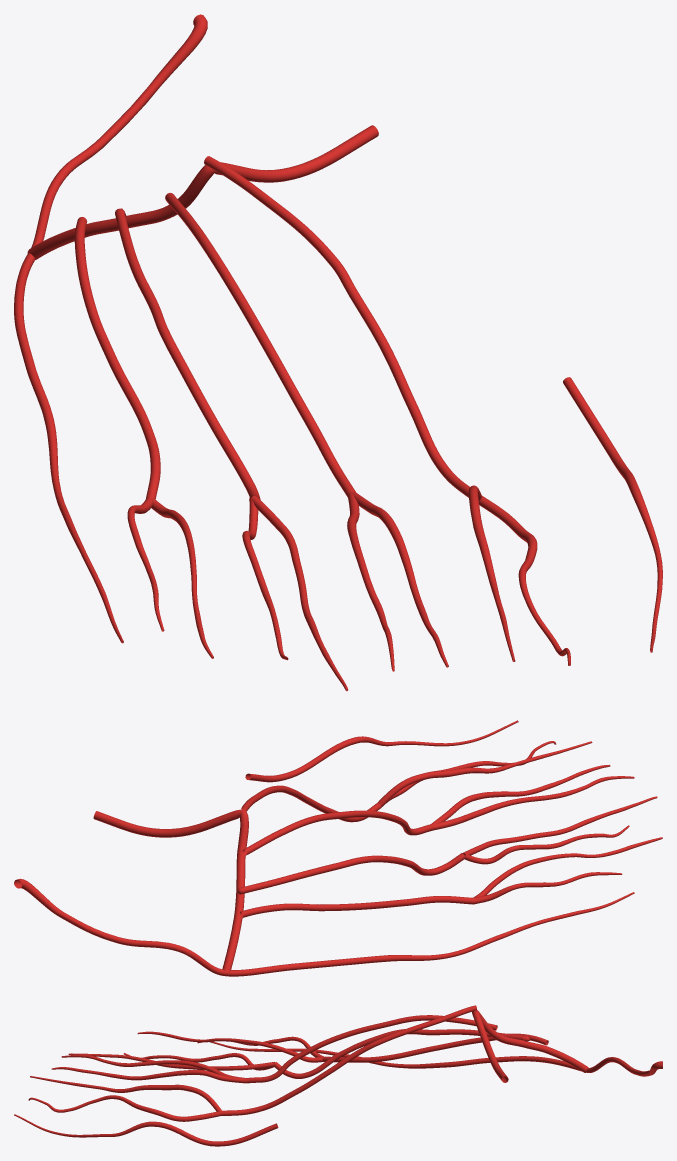
File: circulatorio-lateral-plantar-veins-r.glb
3 renders of one model, top to bottom at view 1: azimuth 30°, elevation 25°; view 2: azimuth 150°, elevation 25°; view 3: azimuth 270°, elevation 25°, orthographic. The views are drawn at different scales.
Parts seen in each view (by area): view 1: Plantar digital veins.r, Plantar metatarsal veins.r, Plantar venous arch.r, Lateral plantar veins.r; view 2: Plantar digital veins.r, Plantar metatarsal veins.r, Plantar venous arch.r, Lateral plantar veins.r; view 3: Plantar digital veins.r, Plantar metatarsal veins.r, Plantar venous arch.r, Lateral plantar veins.r.
Boxes of the visible parts, x1,y1,x2,y2 form: Plantar digital veins.r: [14, 253, 662, 691]; Plantar metatarsal veins.r: [74, 156, 469, 501]; Plantar venous arch.r: [27, 125, 378, 259]; Lateral plantar veins.r: [31, 14, 207, 247]; Plantar digital veins.r: [226, 720, 662, 976]; Plantar metatarsal veins.r: [237, 785, 474, 917]; Plantar venous arch.r: [93, 809, 248, 972]; Lateral plantar veins.r: [14, 878, 226, 976]; Plantar digital veins.r: [14, 1031, 581, 1146]; Plantar metatarsal veins.r: [221, 1005, 548, 1115]; Plantar venous arch.r: [472, 1010, 588, 1082]; Lateral plantar veins.r: [586, 1057, 662, 1076].
Size of the model in its own units: 0.0852 by 0.0361 by 0.167.
